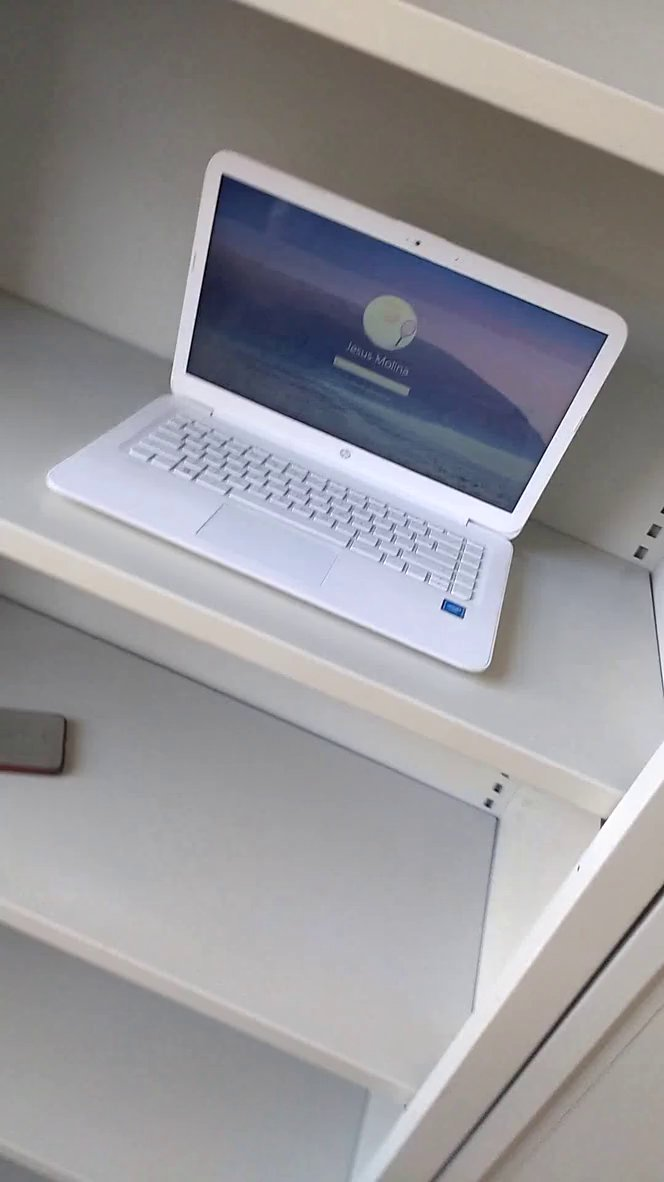laptop: (35, 136, 637, 694)
